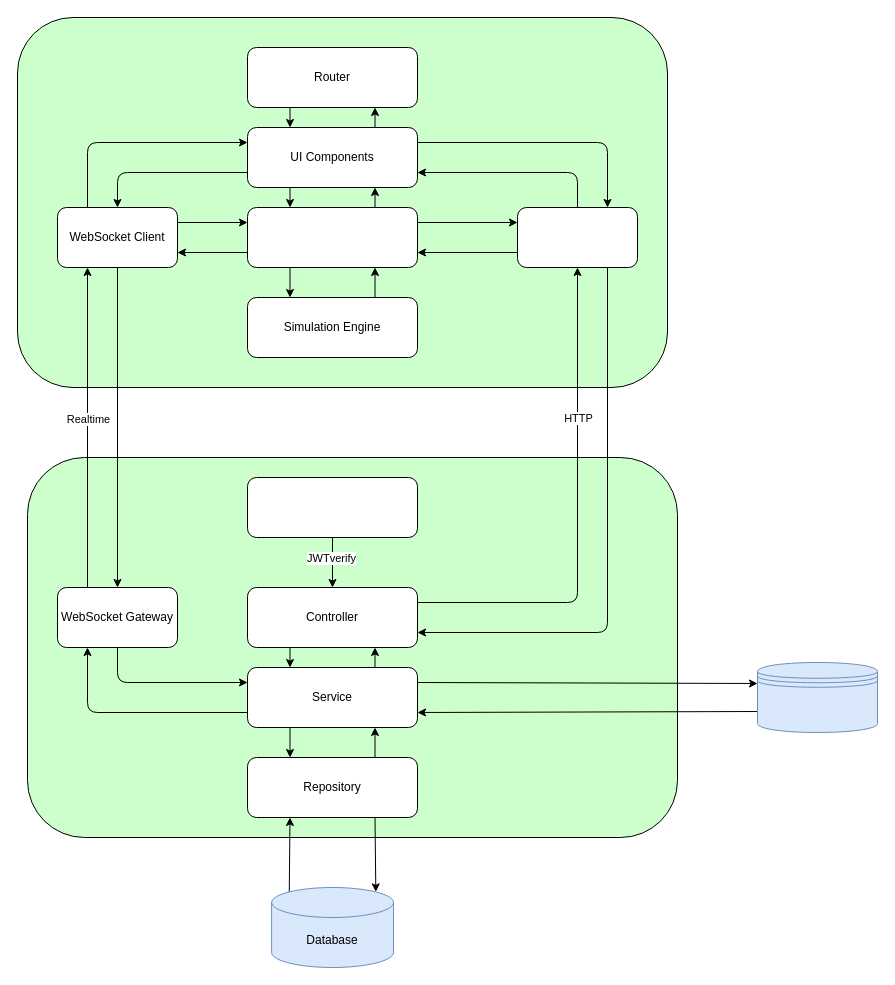
The diagram is 895 pixels wide and 985 high, and some of its shapes have lost their labels. The centre of each missing label's shape, as x and y in pixels:
"Asset Storage" belongs at point 817,697.
"Auth & Middleware" belongs at point 332,507.
"HTTP Client" belongs at point 577,237.
"State Management" belongs at point 332,237.
